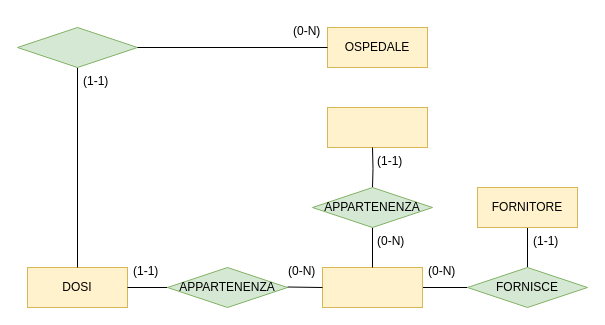
The diagram is 605 pixels wide and 325 high, and some of its shapes have lost their labels. Each missing label, with the centre of its shape:
GIACENZA: the point at 77,47
VACCINAZIONE: the point at 377,127
VACCINO: the point at 372,287
